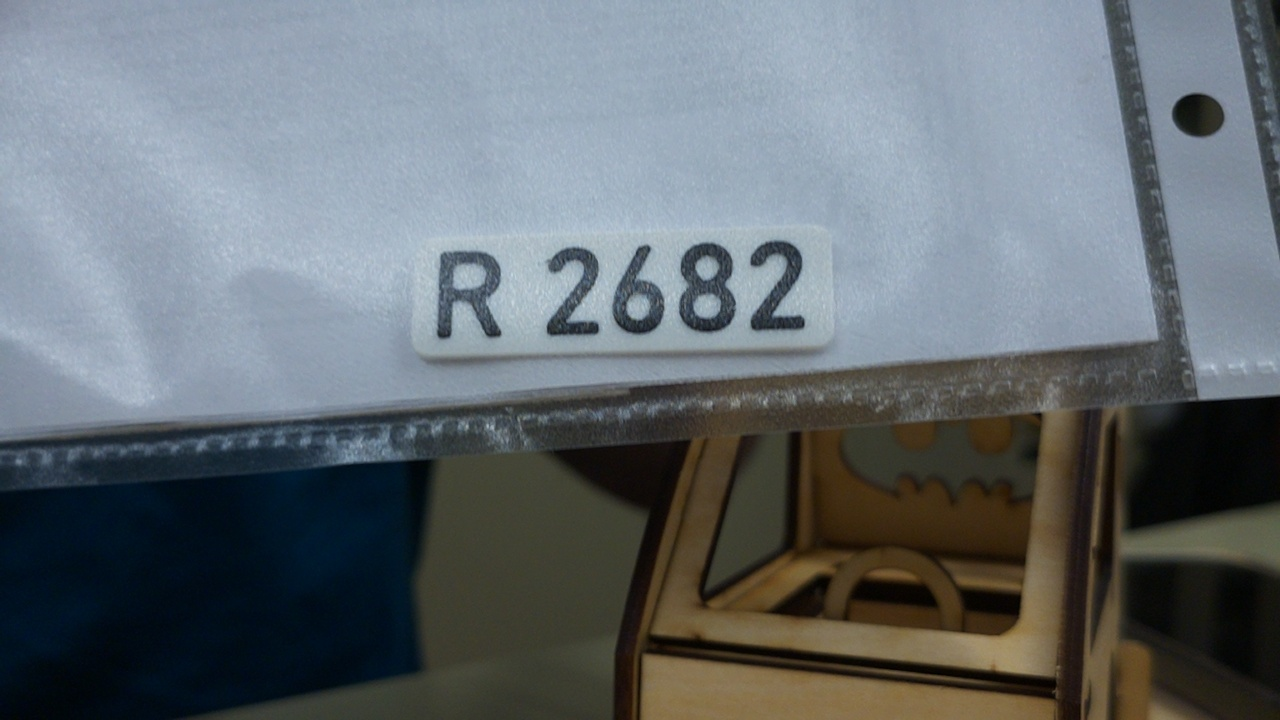license_plate: (406, 225, 849, 363)
